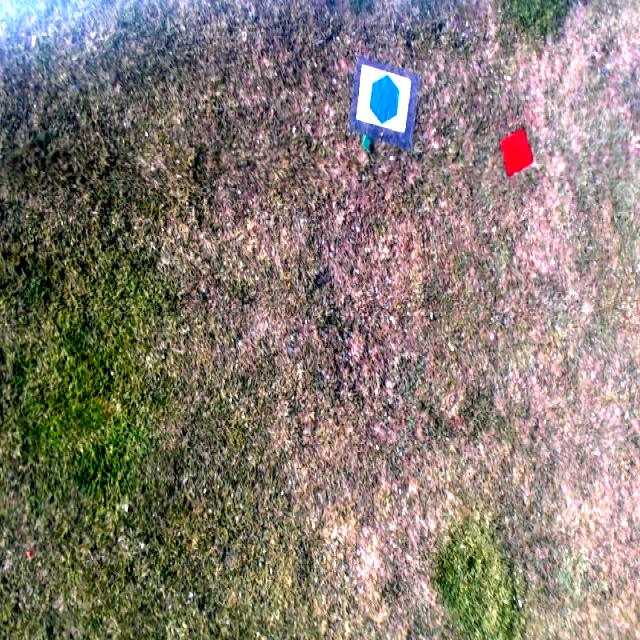blue_hexagon: (369, 73, 399, 125)
red_square: (501, 130, 531, 175)
